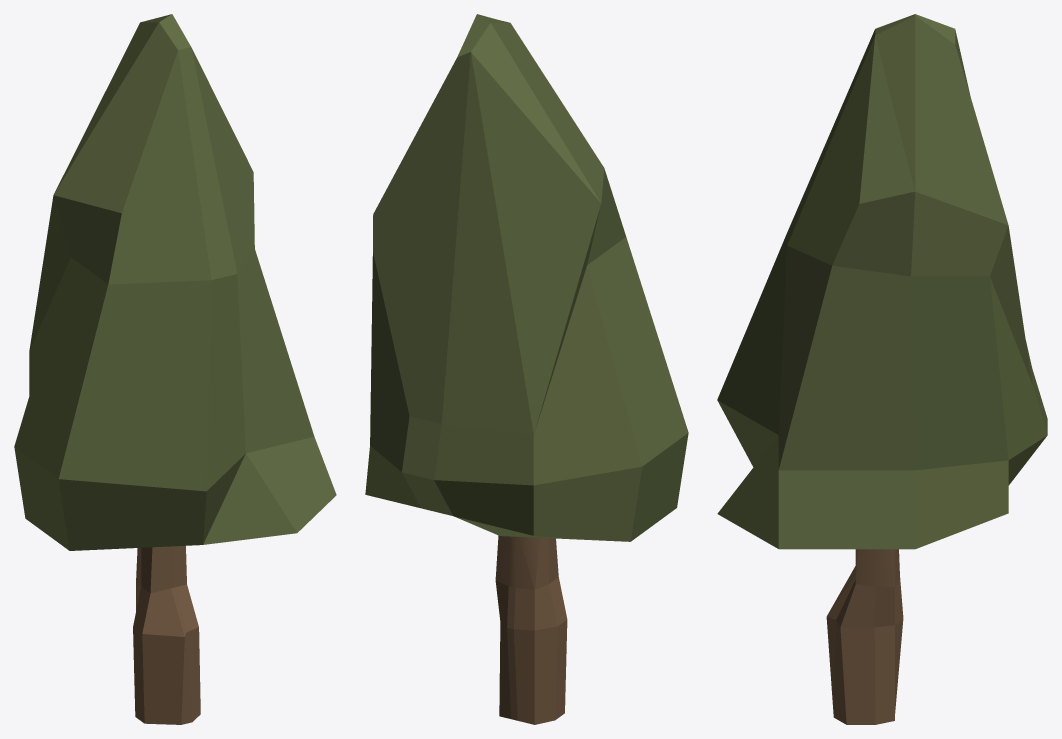
Rendered from tree3.fbx.
3 renders of one model, left to right at view 1: azimuth 30°, elevation 25°; view 2: azimuth 150°, elevation 25°; view 3: azimuth 270°, elevation 25°, orthographic. The views are drawn at different scales.
Visible parts, largest first — view 1: tree1; view 2: tree1; view 3: tree1.
Part boxes in pixels (left/top/right/bottom): tree1: left=14, top=14, right=336, bottom=724; tree1: left=365, top=14, right=688, bottom=724; tree1: left=717, top=14, right=1047, bottom=724.
Bounding box in the file's own units: 482 × 1206 × 508.
